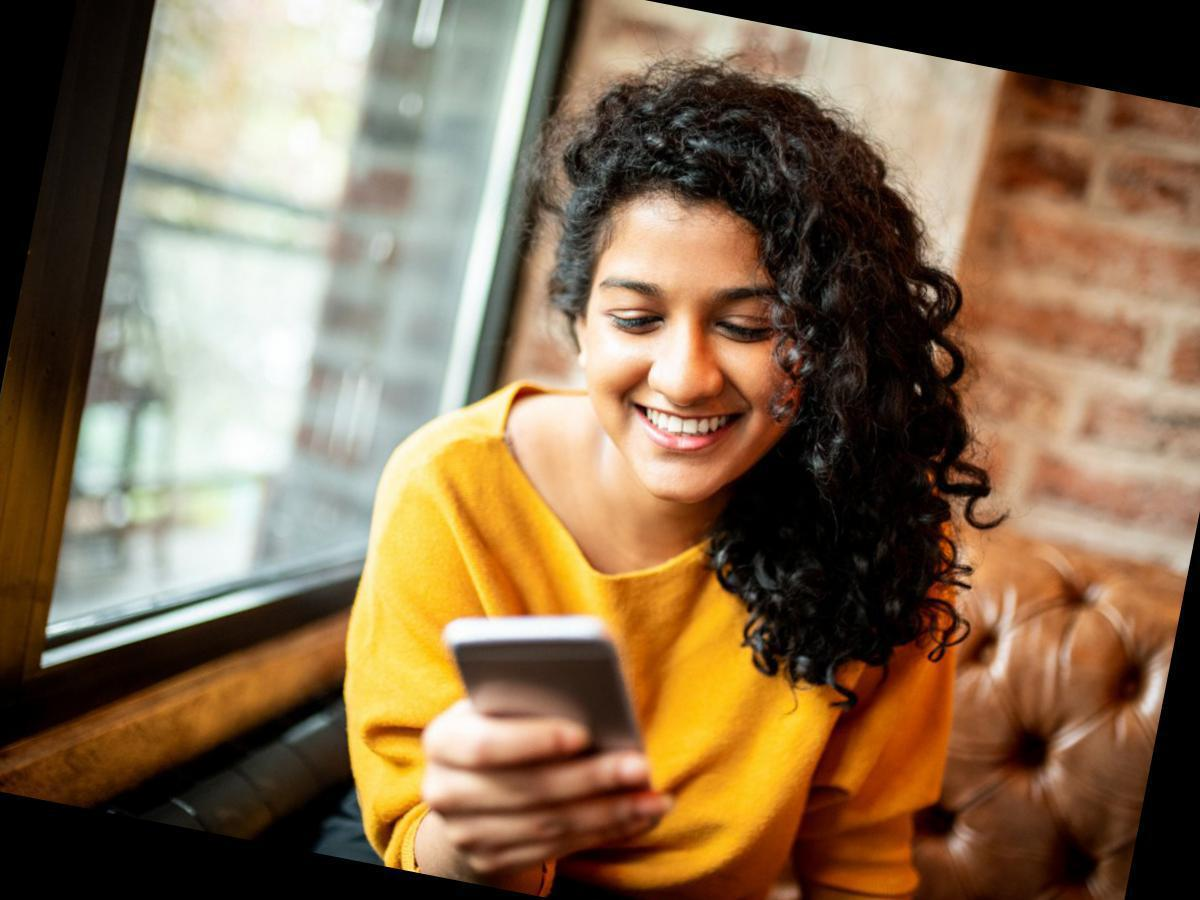Sober: (589, 218, 790, 491)
